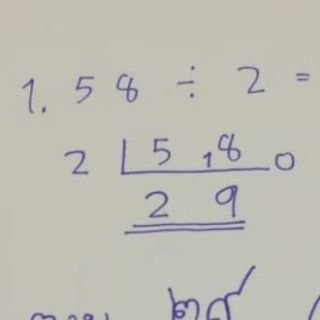.: (187, 60, 199, 74), (186, 89, 199, 101), (38, 104, 49, 117)
0: (273, 149, 298, 174)
1: (20, 76, 37, 117), (201, 148, 213, 169)
2: (233, 63, 269, 98), (62, 146, 92, 178), (144, 189, 171, 219)
5: (73, 74, 96, 105), (151, 134, 171, 168)
8: (113, 70, 140, 103), (217, 132, 242, 163)
9: (214, 183, 240, 220)
